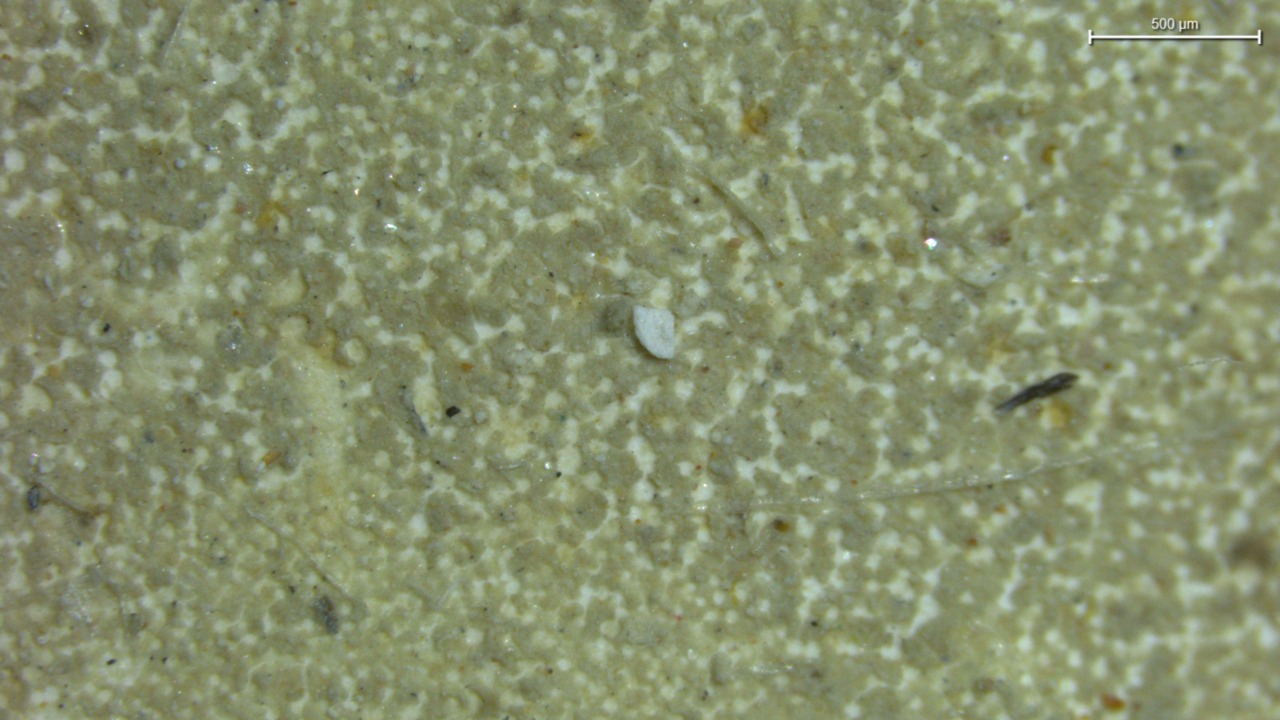microplastic_fragment: (633, 305, 675, 359)
